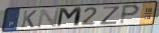2: (80, 7, 98, 27)
K: (20, 10, 39, 29)
M: (55, 6, 84, 28)
N: (36, 8, 62, 29)
P: (118, 4, 141, 26)
Z: (99, 6, 121, 26)
